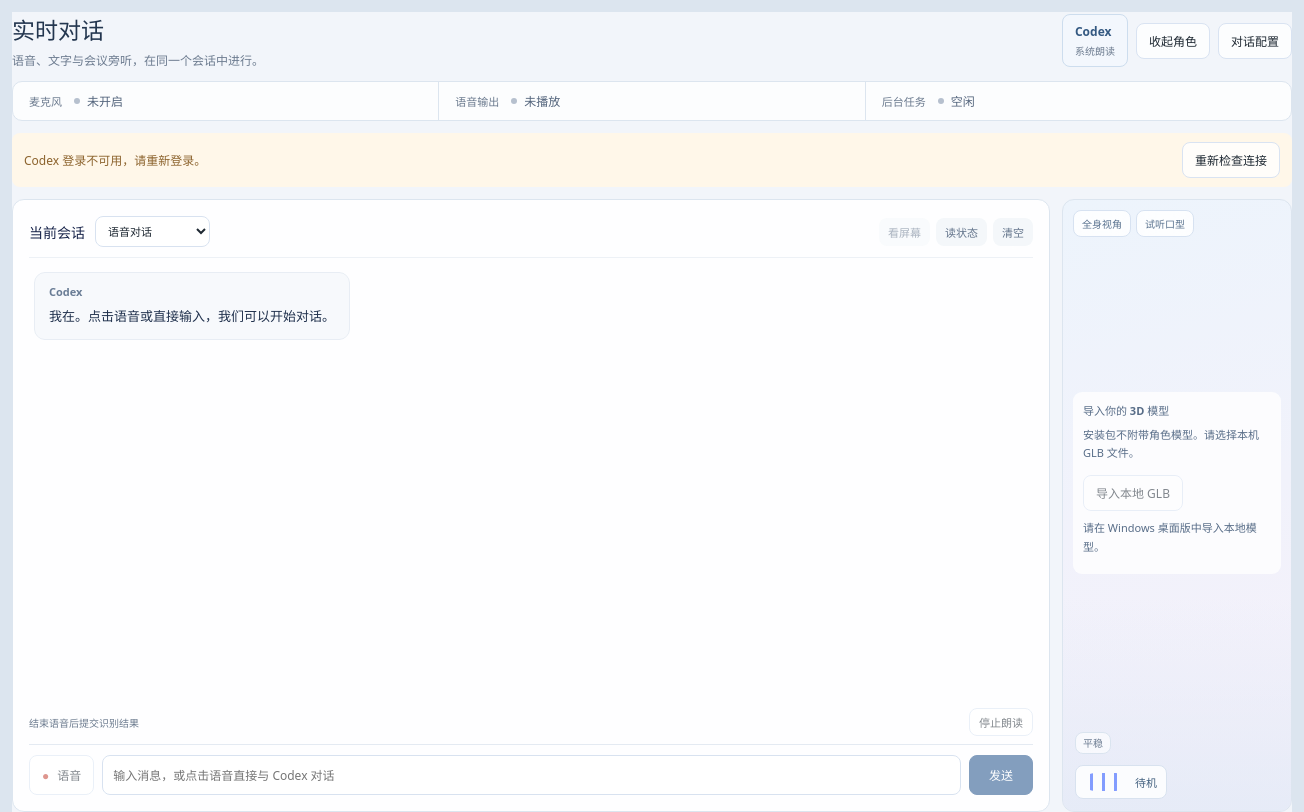
Scenario: Codex in the existing realtime UI › shows login failure and recovers after checking the connection again
This screenshot has width=1304, height=812.
Expected: the text "Codex 登录不可用，请重新登录。" is shown, [24,151,206,169]
Step 1. Click the button "重新检查连接" → (1231, 160), box [1182,142,1280,178]
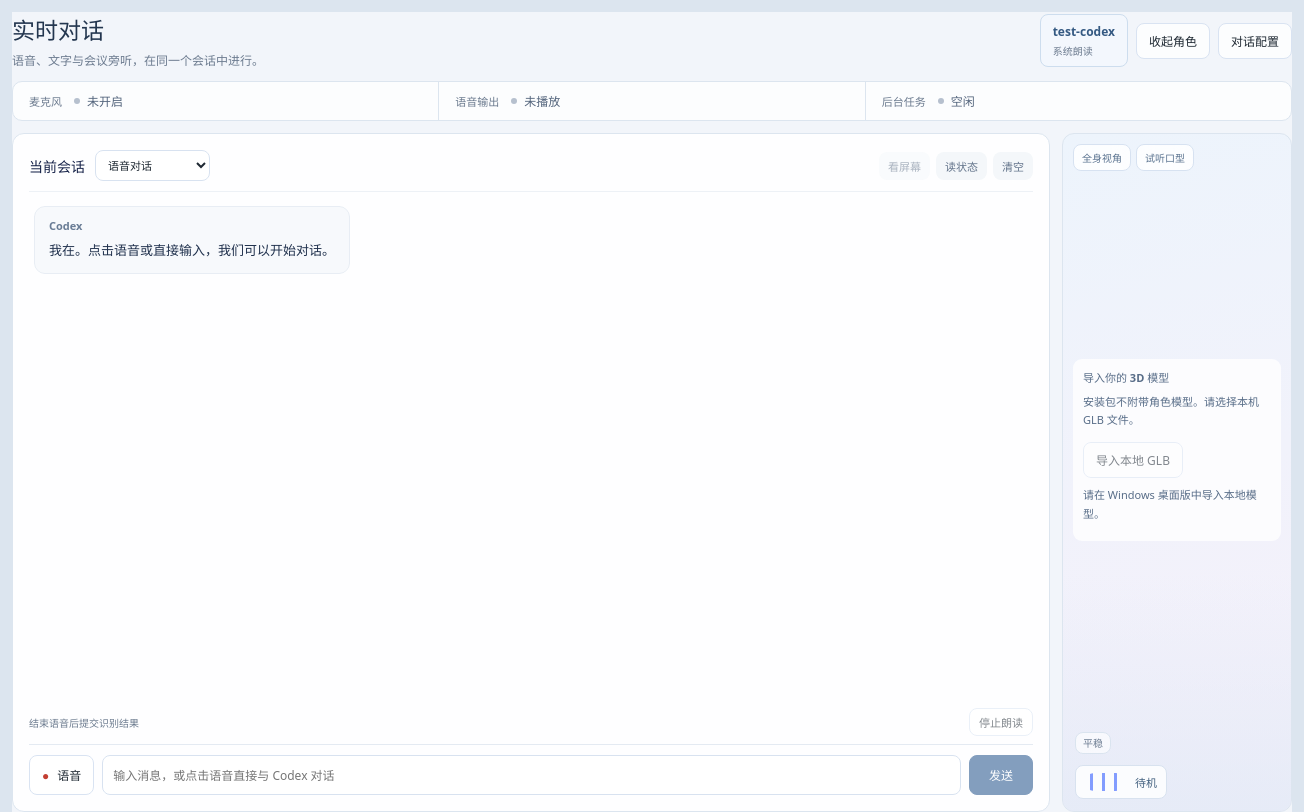
Now the text "Codex 登录不可用，请重新登录。" is gone
Step 2. Type "重新登录后继续对话" into the field named "对话消息" → (532, 775), box [102,755,961,795]
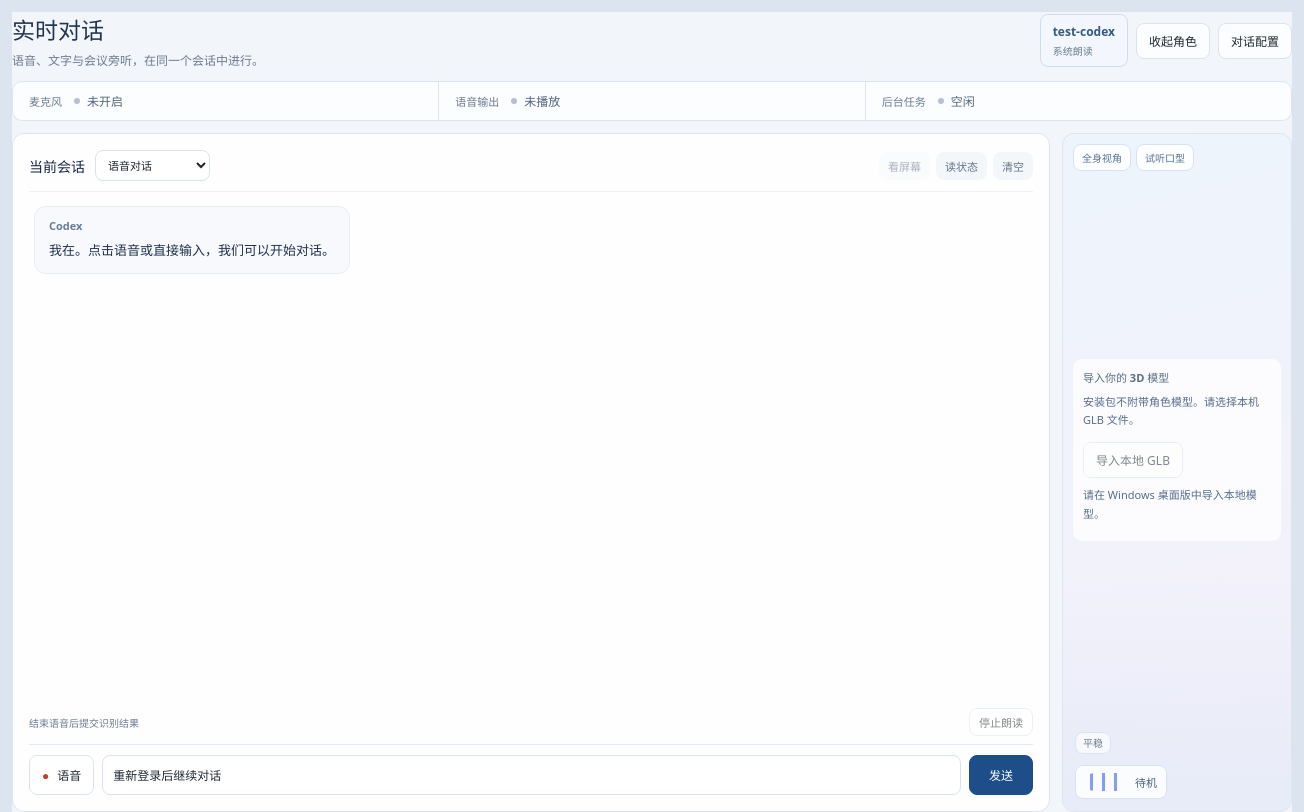
Step 3. Click the button "发送" → (1001, 775), box [969,755,1033,795]
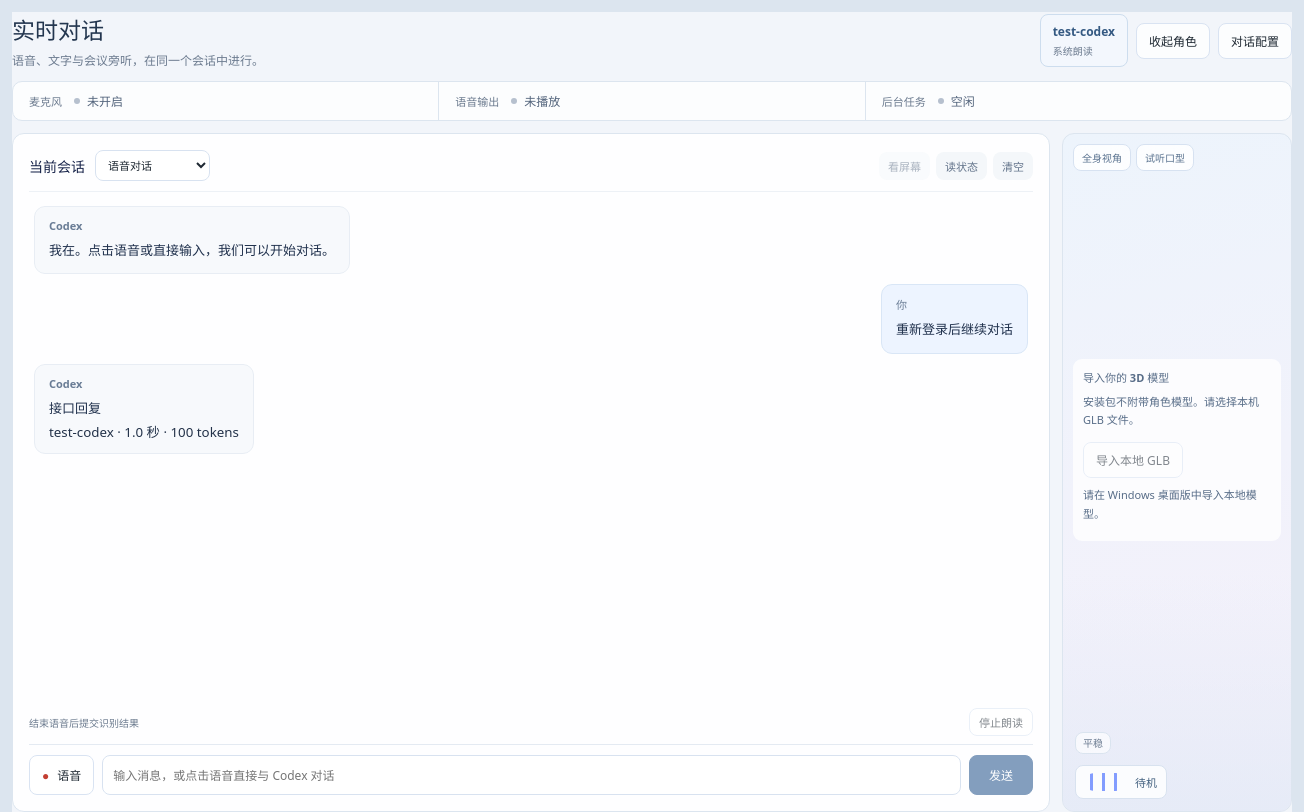
Now the text "接口回复" is shown, box [49,399,101,417]
